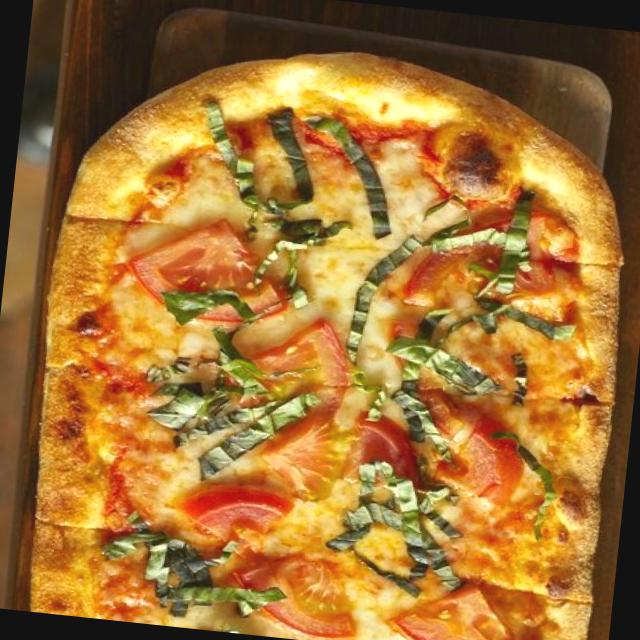pizza: (29, 53, 620, 640)
tomato: (124, 199, 294, 329), (404, 191, 569, 312), (225, 308, 369, 432), (220, 527, 367, 640), (415, 379, 521, 508), (246, 403, 356, 510), (393, 571, 532, 640), (191, 481, 295, 562), (356, 401, 418, 493)
